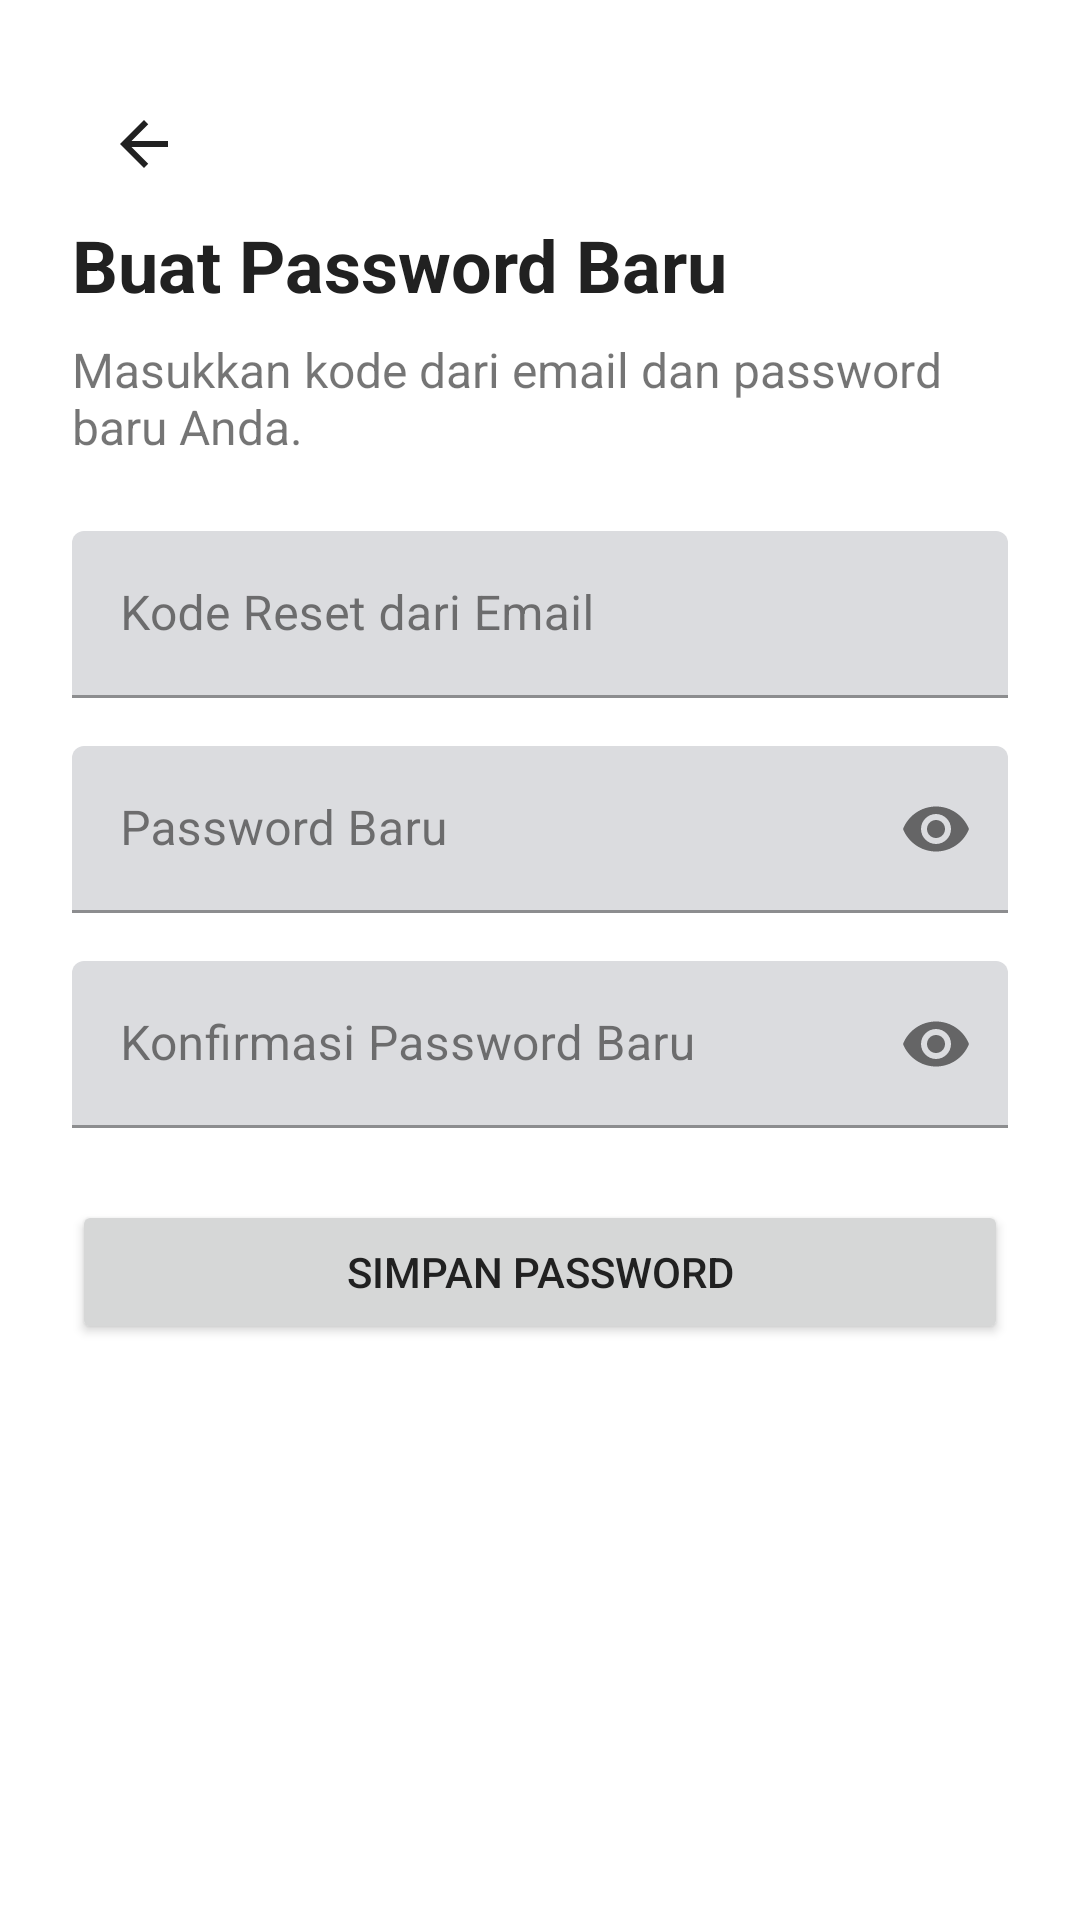

Icon click points for this 1080w x 1920h phone screenshot, format (x,y):
Kembali: (144,144)
